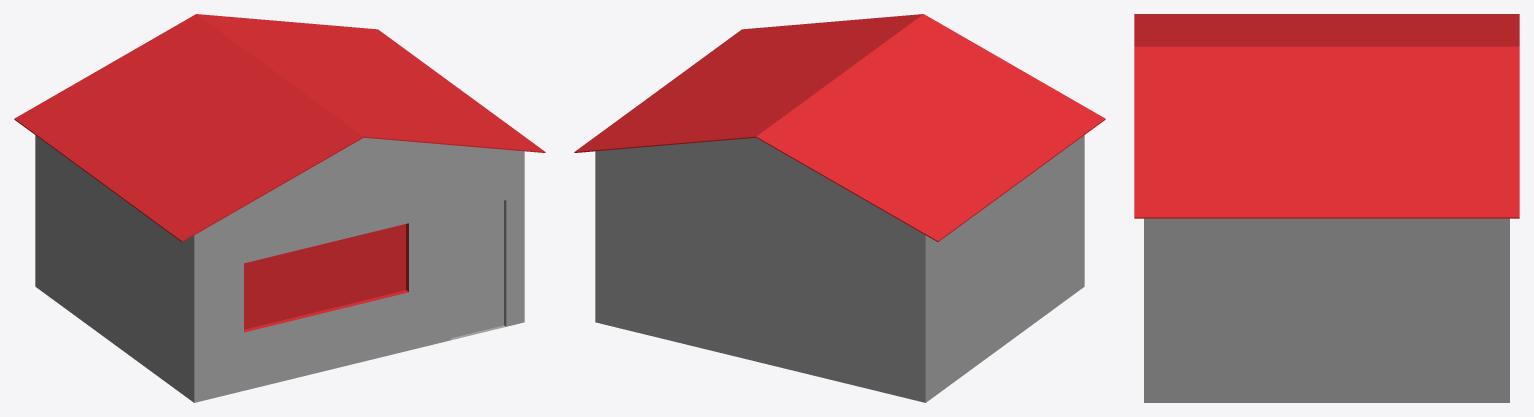
The model's file is refeitorio.fbx.
3 renders of one model, left to right at view 1: azimuth 30°, elevation 25°; view 2: azimuth 150°, elevation 25°; view 3: azimuth 270°, elevation 25°, orthographic. The views are drawn at different scales.
Visible parts, largest first — view 1: Refeitorio; view 2: Refeitorio; view 3: Refeitorio.
Part boxes in pixels (left/top/right/bottom): Refeitorio: left=14, top=14, right=545, bottom=402; Refeitorio: left=574, top=14, right=1105, bottom=402; Refeitorio: left=1134, top=14, right=1519, bottom=402.
Size of the model in its own units: 6.6 by 3.98 by 5.27.
